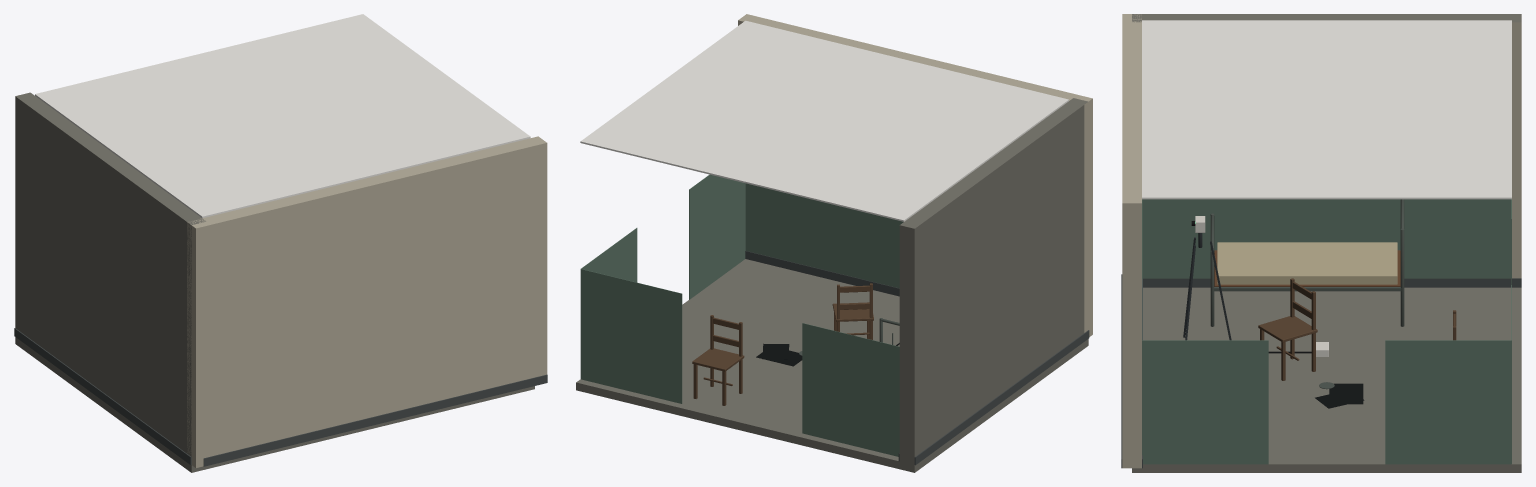
The model's file is ENV_W0_IsolationCell.glb.
3 views of the same model, side by side, from view 1: azimuth 30°, elevation 25°; view 2: azimuth 150°, elevation 25°; view 3: azimuth 270°, elevation 25° (orthographic). The views are drawn at different scales.
Visible parts, largest first — view 1: ENV_W0_IsolationCell_Architecture, ENV_W0_IsolationCell_Ceiling, ENV_W0_IsolationCell_Posts; view 2: ENV_W0_IsolationCell_Architecture, ENV_W0_IsolationCell_Ceiling, ENV_W0_IsolationCell_Dado, ENV_W0_IsolationCell_Posts, PROP_Chair_Wood_Historic_Mesh.001, PROP_Chair_Wood_Historic_Mesh.002, ENV_W0_IsolationCell_Water; view 3: ENV_W0_IsolationCell_Ceiling, ENV_W0_IsolationCell_Dado, ENV_W0_IsolationCell_Architecture, PROP_Bed_Iron_Historic_Mesh, PROP_Chair_Wood_Historic_Mesh.002, PROP_Sensor_Tripod_Modern_Mesh.002, ENV_W0_IsolationCell_Water.
Boxes of the visible parts, left/top/right/bottom form: ENV_W0_IsolationCell_Architecture: left=14, top=92, right=547, bottom=472; ENV_W0_IsolationCell_Ceiling: left=35, top=14, right=530, bottom=218; ENV_W0_IsolationCell_Posts: left=187, top=219, right=208, bottom=467; ENV_W0_IsolationCell_Architecture: left=576, top=14, right=1089, bottom=472; ENV_W0_IsolationCell_Ceiling: left=580, top=20, right=1068, bottom=221; ENV_W0_IsolationCell_Dado: left=580, top=174, right=903, bottom=456; ENV_W0_IsolationCell_Posts: left=1081, top=96, right=1092, bottom=336; PROP_Chair_Wood_Historic_Mesh.001: left=692, top=315, right=744, bottom=405; PROP_Chair_Wood_Historic_Mesh.002: left=832, top=283, right=873, bottom=339; ENV_W0_IsolationCell_Water: left=756, top=343, right=802, bottom=366; ENV_W0_IsolationCell_Ceiling: left=1142, top=20, right=1511, bottom=199; ENV_W0_IsolationCell_Dado: left=1142, top=199, right=1511, bottom=464; ENV_W0_IsolationCell_Architecture: left=1121, top=14, right=1521, bottom=472; PROP_Bed_Iron_Historic_Mesh: left=1210, top=199, right=1404, bottom=326; PROP_Chair_Wood_Historic_Mesh.002: left=1258, top=278, right=1317, bottom=380; PROP_Sensor_Tripod_Modern_Mesh.002: left=1183, top=216, right=1328, bottom=356; ENV_W0_IsolationCell_Water: left=1315, top=383, right=1364, bottom=408.
Size of what is drawn, in the model's own units: 4.61 by 3.12 by 4.11.
